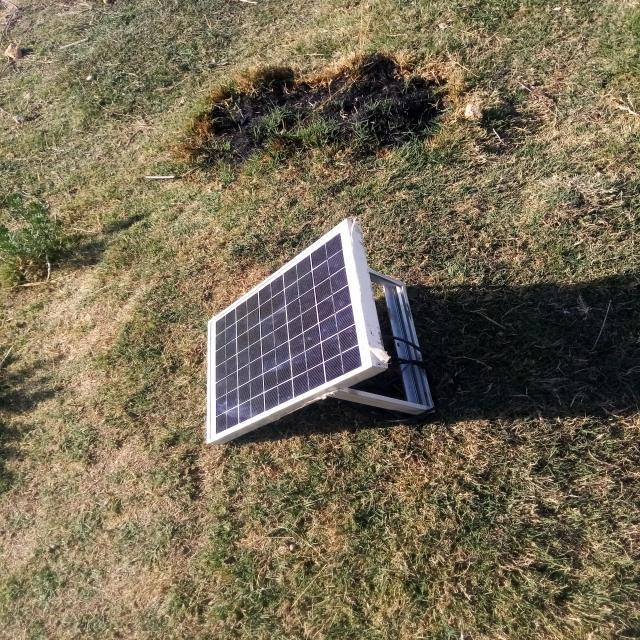no faulty: (207, 218, 371, 444)
